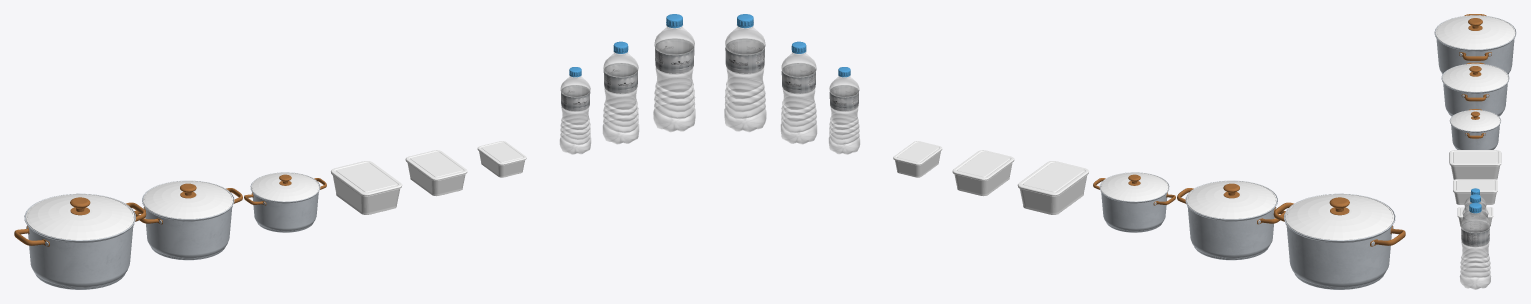
File: storage_items.glb
3 views of the same model, side by side, from view 1: azimuth 30°, elevation 25°; view 2: azimuth 150°, elevation 25°; view 3: azimuth 270°, elevation 25° (orthographic). The views are drawn at different scales.
Parts seen in each view (by area): view 1: Utensil_Body.002, Utensil_Body, Bottle_2_L, Utensil_Body.001, Bottle_1_L, Bottle_500_ml, Container_Lid.002, Container_Body.002, Container_Lid.001, Container_Body.001, Container_Lid, Container_Body; view 2: Utensil_Body.002, Utensil_Body, Bottle_2_L, Utensil_Body.001, Bottle_1_L, Bottle_500_ml, Container_Lid.002, Container_Body.002, Container_Lid.001, Container_Body.001, Container_Lid, Container_Body; view 3: Utensil_Body.002, Utensil_Body, Bottle_2_L, Utensil_Body.001, Container_Lid.002, Container_Body.002, Container_Lid.001, Bottle_1_L, Container_Body.001, Bottle_500_ml, Container_Lid.
Part boxes in pixels (x1,y1,x2,y2): Utensil_Body.002: (14, 193, 146, 289); Utensil_Body: (134, 180, 242, 260); Bottle_2_L: (653, 14, 695, 131); Utensil_Body.001: (244, 172, 326, 232); Bottle_1_L: (603, 41, 638, 144); Bottle_500_ml: (560, 67, 590, 154); Container_Lid.002: (331, 161, 402, 196); Container_Body.002: (332, 175, 399, 214); Container_Lid.001: (405, 150, 467, 180); Container_Body.001: (407, 163, 465, 195); Container_Lid: (477, 141, 526, 165); Container_Body: (479, 151, 524, 177); Utensil_Body.002: (1273, 193, 1405, 289); Utensil_Body: (1177, 180, 1285, 260); Bottle_2_L: (724, 14, 766, 131); Utensil_Body.001: (1093, 172, 1175, 232); Bottle_1_L: (781, 41, 816, 144); Bottle_500_ml: (829, 67, 859, 154); Container_Lid.002: (1017, 161, 1088, 196); Container_Body.002: (1020, 175, 1087, 214); Container_Lid.001: (952, 150, 1014, 180); Container_Body.001: (954, 163, 1012, 195); Container_Lid: (893, 141, 942, 165); Container_Body: (895, 151, 940, 177); Utensil_Body.002: (1434, 14, 1516, 74); Utensil_Body: (1441, 62, 1509, 116); Bottle_2_L: (1460, 203, 1490, 289); Utensil_Body.001: (1449, 109, 1501, 149); Container_Lid.002: (1449, 150, 1501, 166); Container_Body.002: (1451, 166, 1499, 179); Container_Lid.001: (1453, 179, 1497, 193); Bottle_1_L: (1462, 194, 1488, 222); Container_Body.001: (1454, 193, 1496, 204); Bottle_500_ml: (1464, 188, 1486, 211); Container_Lid: (1457, 207, 1493, 217).
Bounding box in the file's own units: 2.11 × 0.325 × 0.3037.
Materials: 11 (4 with a texture image).
